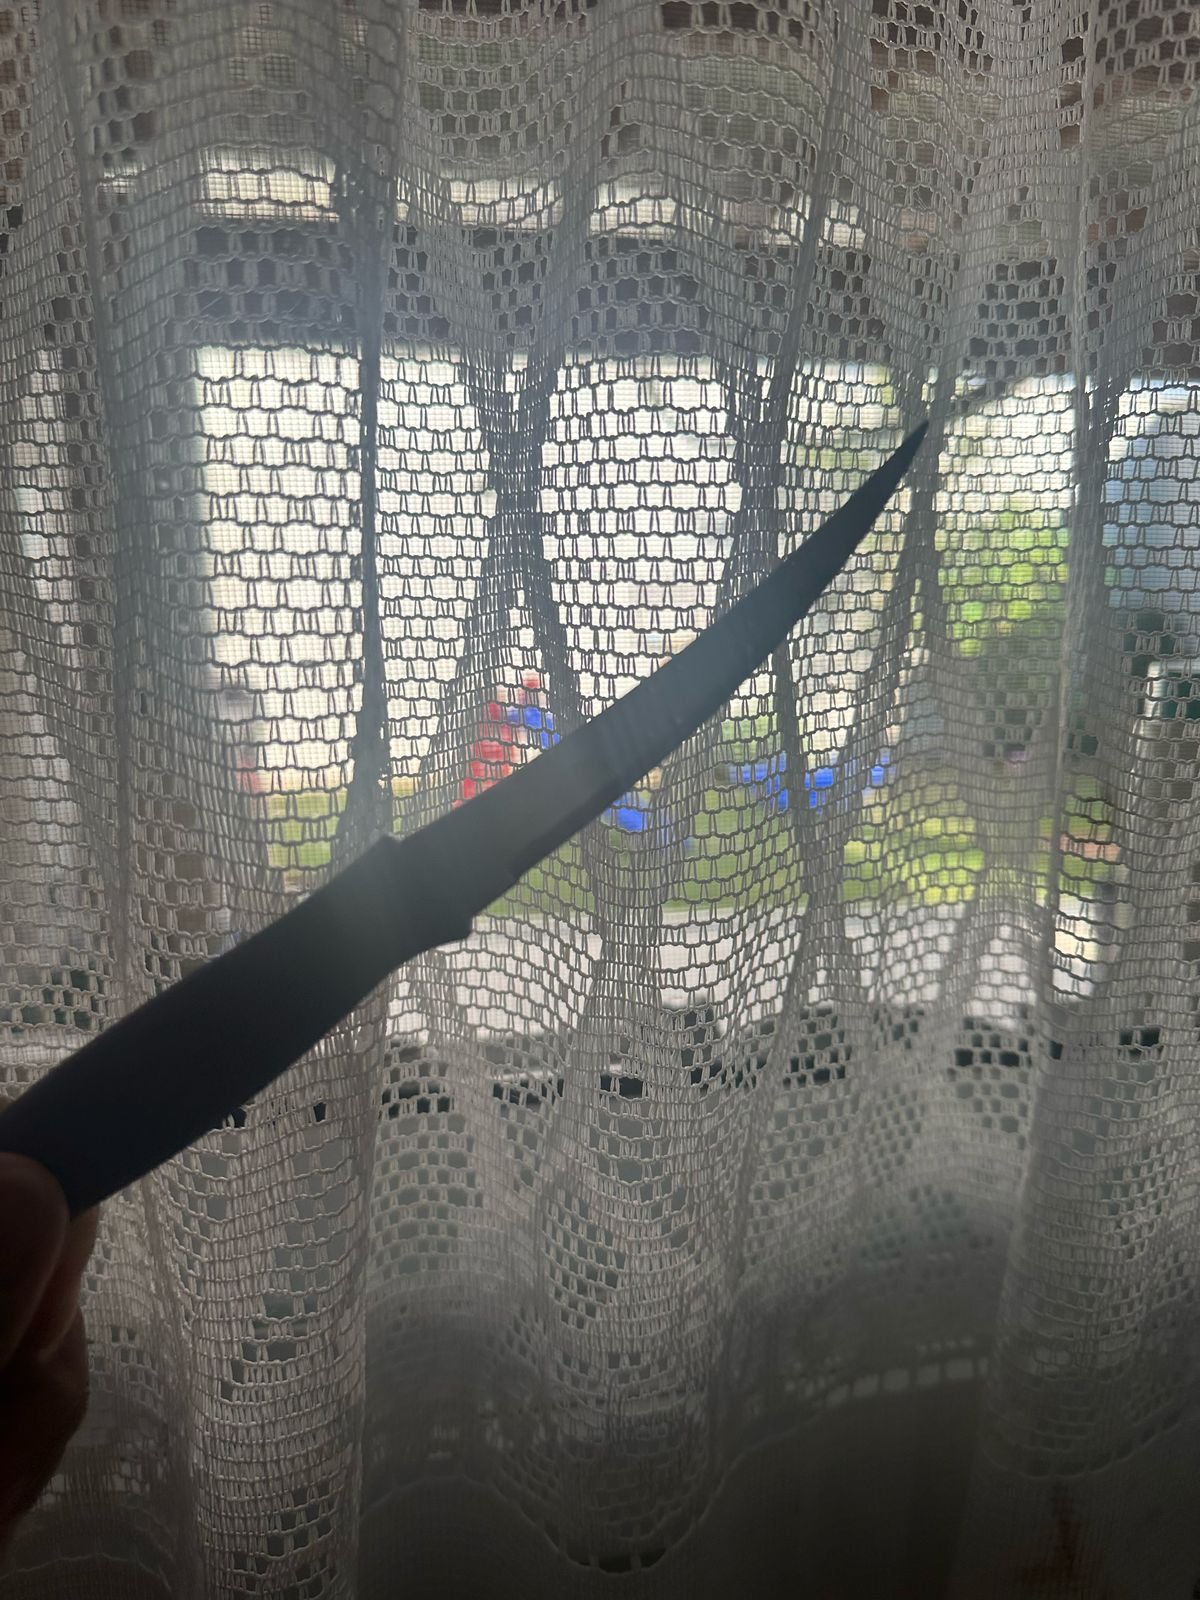faca: (88, 409, 937, 1193)
